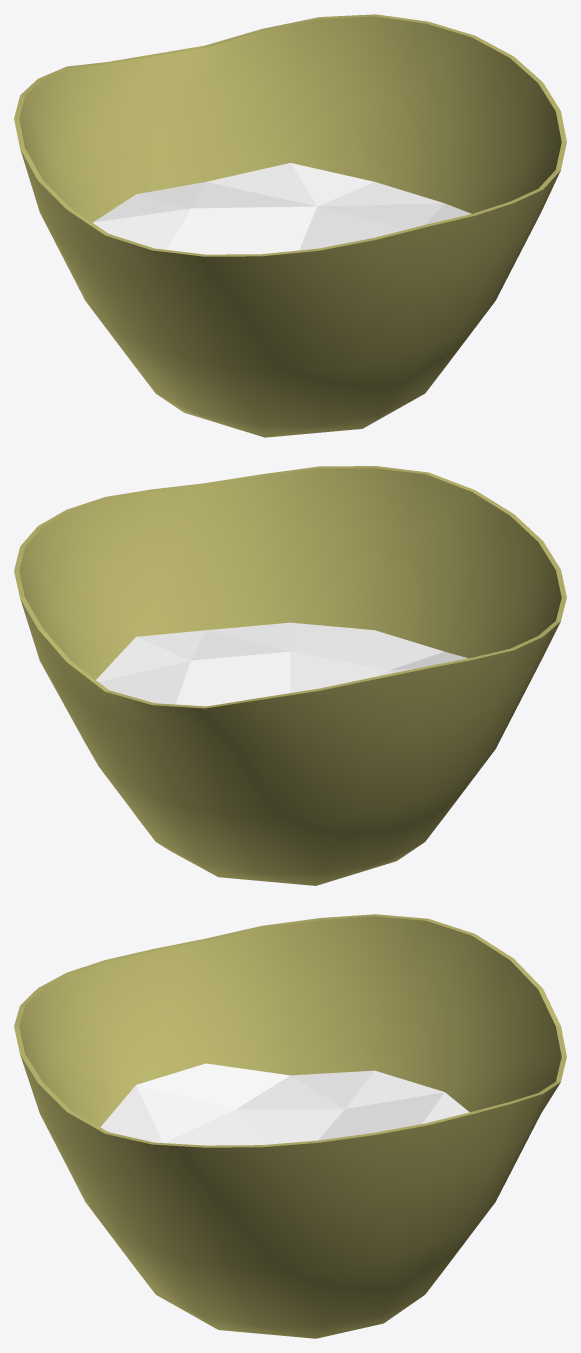
File: Kitchen_FlourBowl.FBX
3 views of the same model, one above another, from view 1: azimuth 30°, elevation 25°; view 2: azimuth 150°, elevation 25°; view 3: azimuth 270°, elevation 25° (orthographic).
Parts seen in each view (by area): view 1: Kitchen_FlourBowl; view 2: Kitchen_FlourBowl; view 3: Kitchen_FlourBowl.
Part boxes in pixels (x1=…): Kitchen_FlourBowl: x1=14, y1=14, x2=566, y2=437; Kitchen_FlourBowl: x1=14, y1=466, x2=566, y2=885; Kitchen_FlourBowl: x1=14, y1=914, x2=566, y2=1338.
Bounding box in the file's own units: 0.2872 × 0.1561 × 0.2888.
